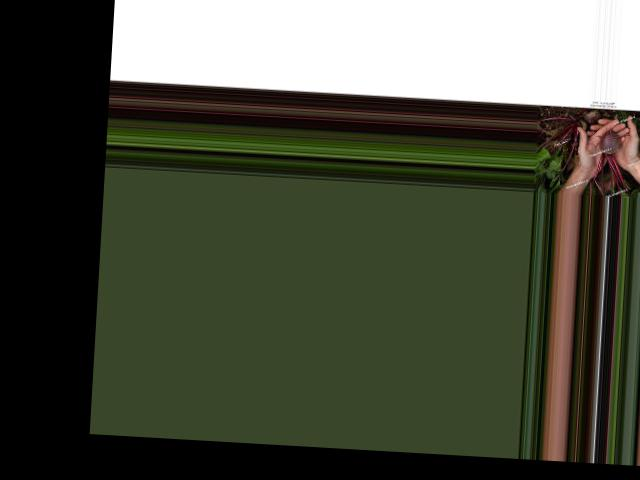beet: (591, 128, 634, 195)
